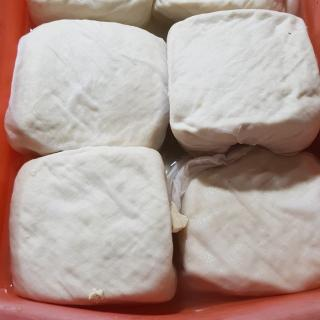Tahu: (9, 148, 186, 307), (164, 135, 320, 295), (9, 20, 174, 153), (163, 15, 320, 151)
